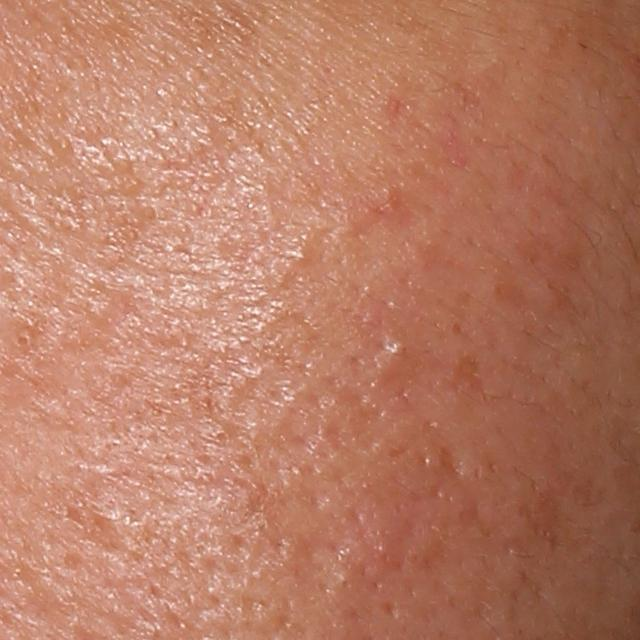atrophic_scar: (60, 500, 139, 561), (437, 446, 465, 479)
comedo: (379, 338, 407, 371), (288, 245, 312, 268), (14, 332, 32, 351)
